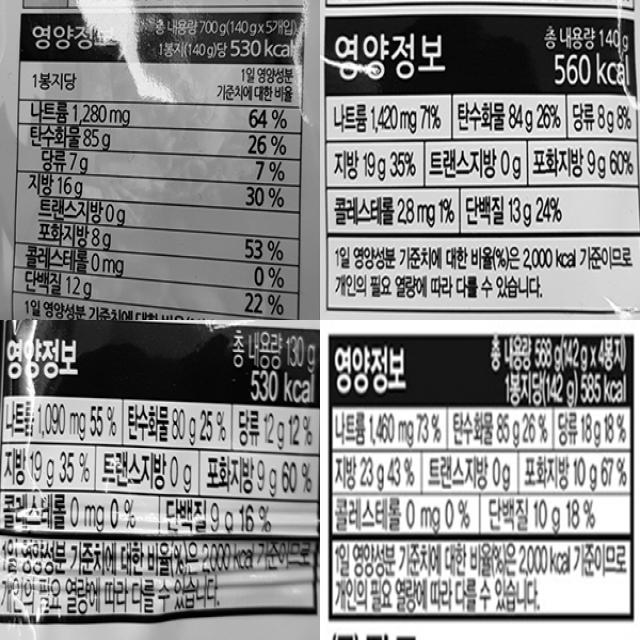Nutrition Label: (319, 4, 640, 321), (0, 320, 322, 630), (319, 325, 640, 635), (8, 1, 311, 322)
